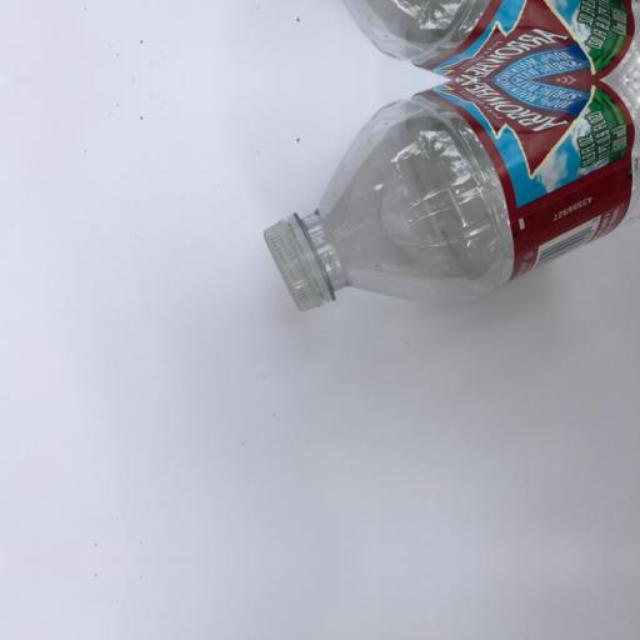Plastic: (229, 80, 639, 358), (229, 0, 639, 80)
